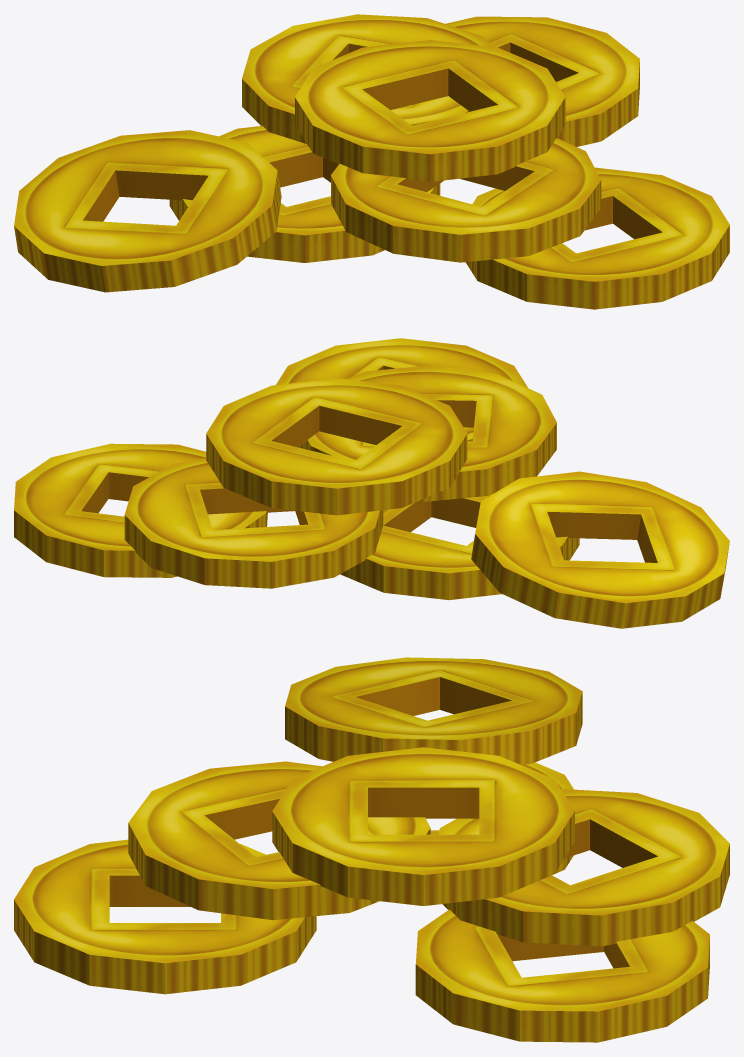
The model's file is coin_hole_03.fbx.
3 views of the same model, one above another, from view 1: azimuth 30°, elevation 25°; view 2: azimuth 150°, elevation 25°; view 3: azimuth 270°, elevation 25° (orthographic). The views are drawn at different scales.
Parts seen in each view (by area): view 1: coin_hole_03; view 2: coin_hole_03; view 3: coin_hole_03.
Part boxes in pixels (x1,y1,x2,y2): coin_hole_03: (14,14,729,309); coin_hole_03: (14,338,729,628); coin_hole_03: (14,657,729,1042).
Size of the model in its own units: 7.27 by 0.8862 by 6.22.
